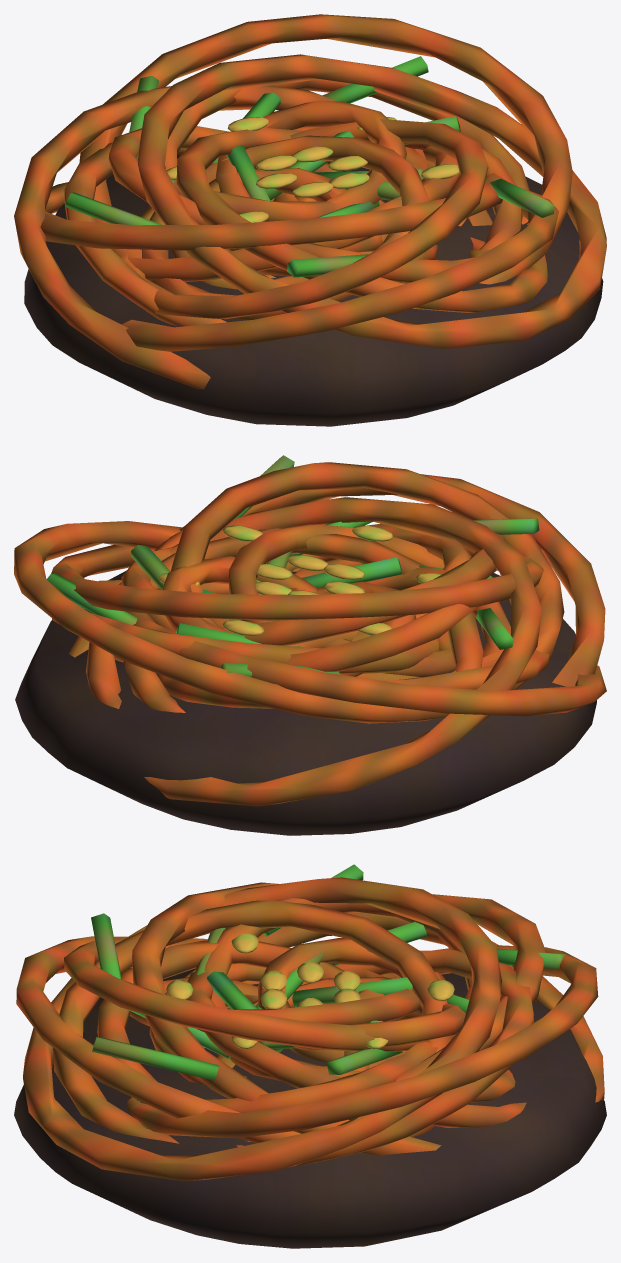
The model's file is hakka-street-chow-mein-ultralight.glb.
3 renders of one model, top to bottom at view 1: azimuth 30°, elevation 25°; view 2: azimuth 150°, elevation 25°; view 3: azimuth 270°, elevation 25°, orthographic.
Parts seen in each view (by area): view 1: Mesh_Hakka_Wok_Noodle_Strands, Mesh_Street_Flared_Wok_Bowl, Mesh_Julienne_Cabbage_And_Peppers, Mesh_Crispy_Garlic_And_Scallions; view 2: Mesh_Hakka_Wok_Noodle_Strands, Mesh_Street_Flared_Wok_Bowl, Mesh_Julienne_Cabbage_And_Peppers, Mesh_Crispy_Garlic_And_Scallions; view 3: Mesh_Hakka_Wok_Noodle_Strands, Mesh_Street_Flared_Wok_Bowl, Mesh_Julienne_Cabbage_And_Peppers, Mesh_Crispy_Garlic_And_Scallions.
Boxes of the visible parts, x1,y1,x2,y2 form: Mesh_Hakka_Wok_Noodle_Strands: [14, 14, 606, 389]; Mesh_Street_Flared_Wok_Bowl: [24, 154, 603, 426]; Mesh_Julienne_Cabbage_And_Peppers: [65, 56, 554, 277]; Mesh_Crispy_Garlic_And_Scallions: [166, 117, 459, 222]; Mesh_Hakka_Wok_Noodle_Strands: [14, 462, 606, 806]; Mesh_Street_Flared_Wok_Bowl: [15, 570, 596, 835]; Mesh_Julienne_Cabbage_And_Peppers: [46, 455, 539, 676]; Mesh_Crispy_Garlic_And_Scallions: [158, 525, 441, 635]; Mesh_Hakka_Wok_Noodle_Strands: [16, 877, 604, 1181]; Mesh_Street_Flared_Wok_Bowl: [14, 968, 606, 1248]; Mesh_Julienne_Cabbage_And_Peppers: [91, 864, 566, 1080]; Mesh_Crispy_Garlic_And_Scallions: [166, 933, 454, 1048].
Bounding box in the file's own units: 2.19 × 0.9771 × 2.13.
Materials: 4 (4 with a texture image).
